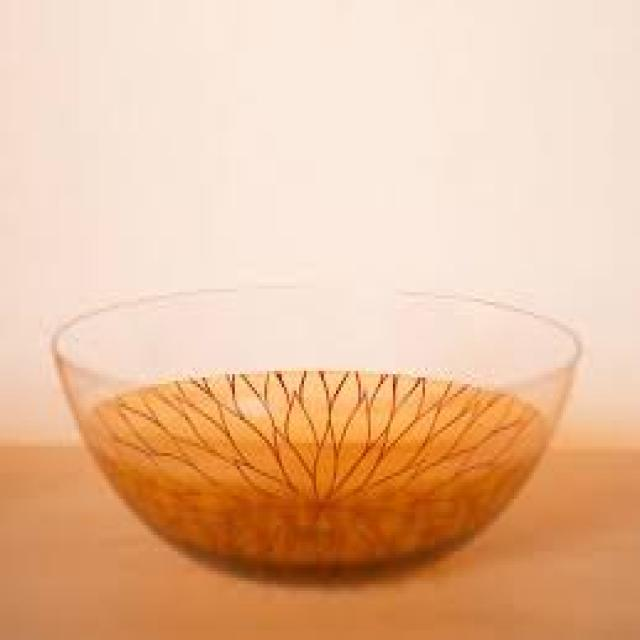glass: (52, 286, 578, 574)
